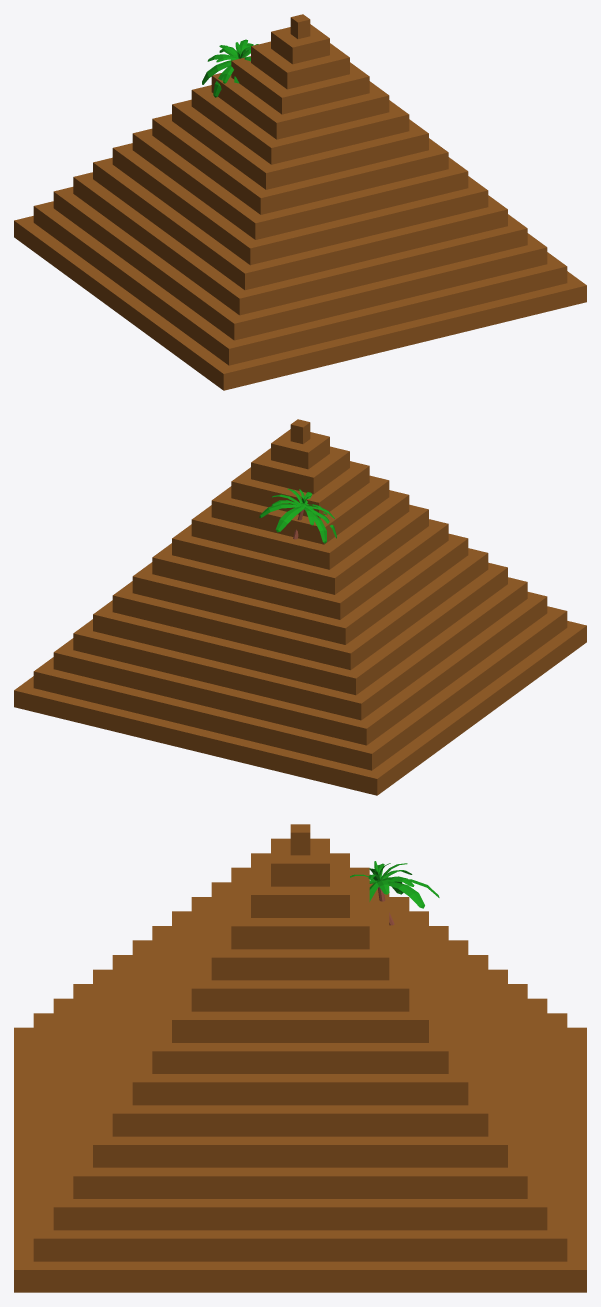
File: Instanciable.fbx
3 renders of one model, top to bottom at view 1: azimuth 30°, elevation 25°; view 2: azimuth 150°, elevation 25°; view 3: azimuth 270°, elevation 25°, orthographic. The views are drawn at different scales.
Parts seen in each view (by area): view 1: Pyramide, Palm tree; view 2: Pyramide, Palm tree; view 3: Pyramide, Palm tree.
Boxes of the visible parts, box(x1,y1,x2,y2) form: Pyramide: box(14, 14, 586, 390); Palm tree: box(202, 39, 258, 97); Pyramide: box(14, 419, 586, 795); Palm tree: box(259, 488, 336, 543); Pyramide: box(14, 824, 586, 1292); Palm tree: box(350, 861, 439, 925).
Bounding box in the file's own units: 2287 × 1512 × 2287.
